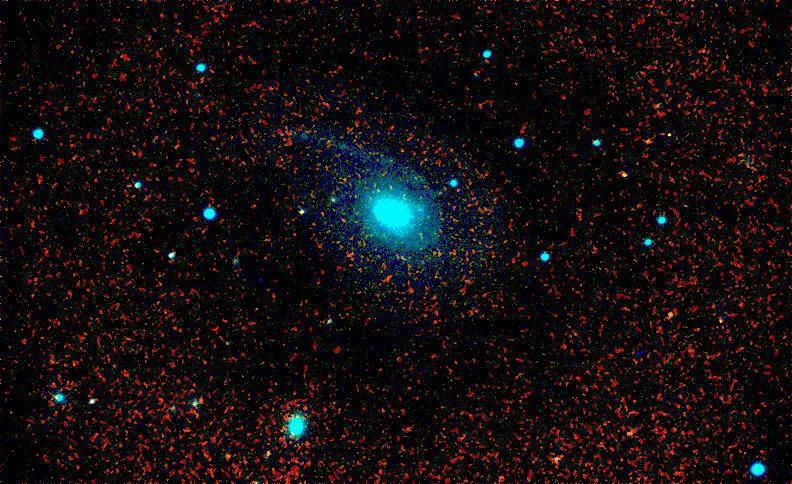star: (604, 161, 634, 191)
